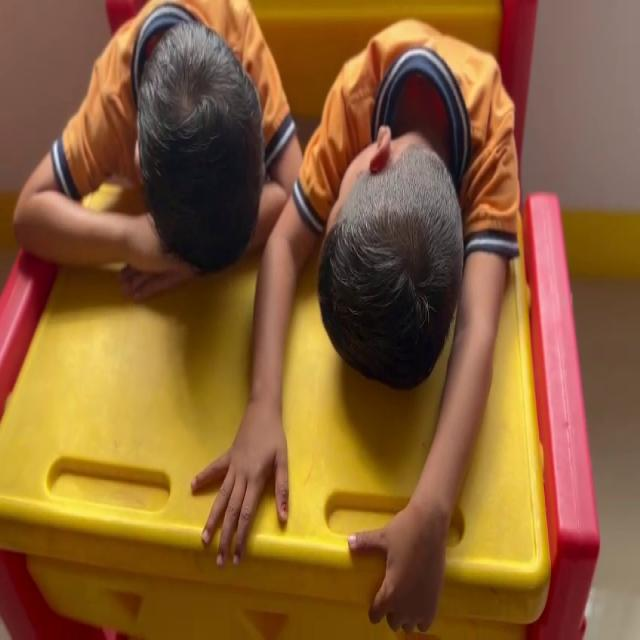child: (0, 0, 283, 524), (302, 23, 528, 546)
